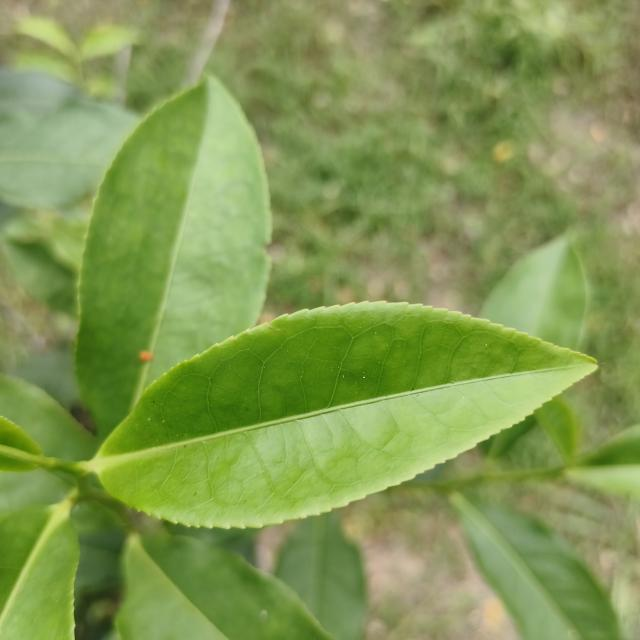Leaf: (87, 302, 596, 527), (76, 78, 271, 439), (452, 494, 621, 640), (116, 534, 332, 640), (0, 69, 138, 209), (479, 235, 586, 349), (275, 512, 366, 640), (0, 502, 79, 640), (566, 425, 640, 497), (534, 395, 579, 461), (16, 16, 77, 57), (80, 25, 137, 60), (0, 416, 42, 456), (0, 451, 37, 472)
